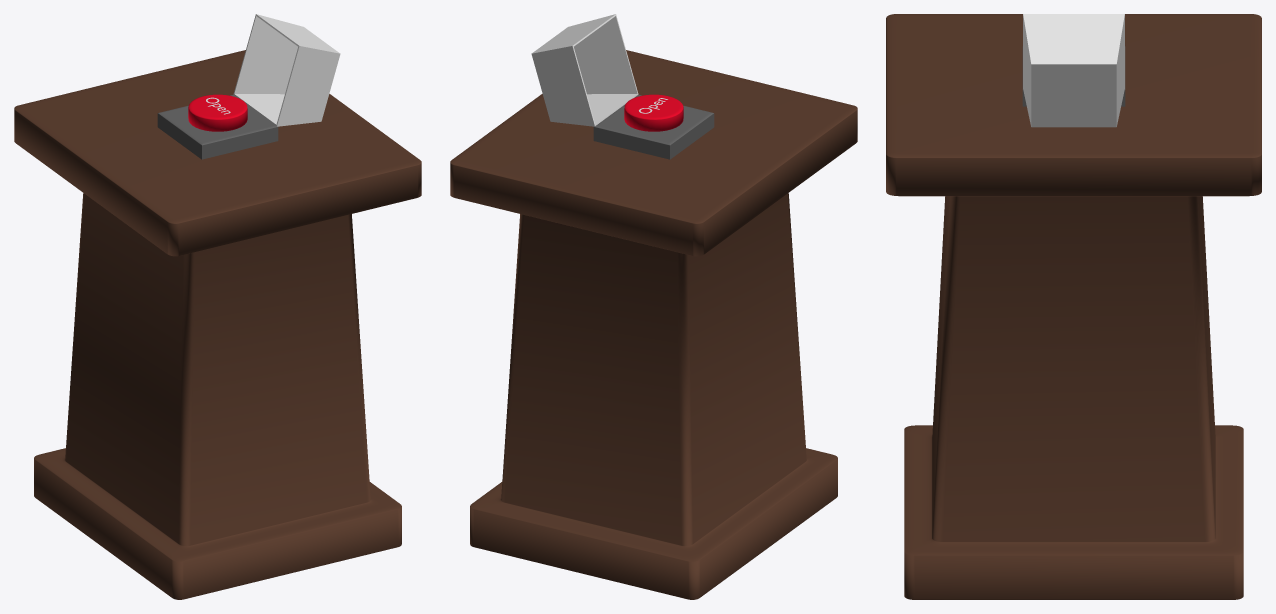
3 renders of one model, left to right at view 1: azimuth 30°, elevation 25°; view 2: azimuth 150°, elevation 25°; view 3: azimuth 270°, elevation 25°, orthographic. The views are drawn at different scales.
Parts seen in each view (by area): view 1: Stand, Cube.001, Cylinder; view 2: Stand, Cube.001, Cylinder; view 3: Stand, Cube.001.
Part boxes in pixels (x1,y1,x2,y2): Stand: (14,50,421,599); Cube.001: (233,14,340,126); Cylinder: (188,94,247,131); Stand: (450,50,857,599); Cube.001: (531,14,638,126); Cylinder: (624,94,683,131); Stand: (886,14,1261,599); Cube.001: (1023,14,1124,127).
Size of the model in its own units: 178 by 321 by 196.
